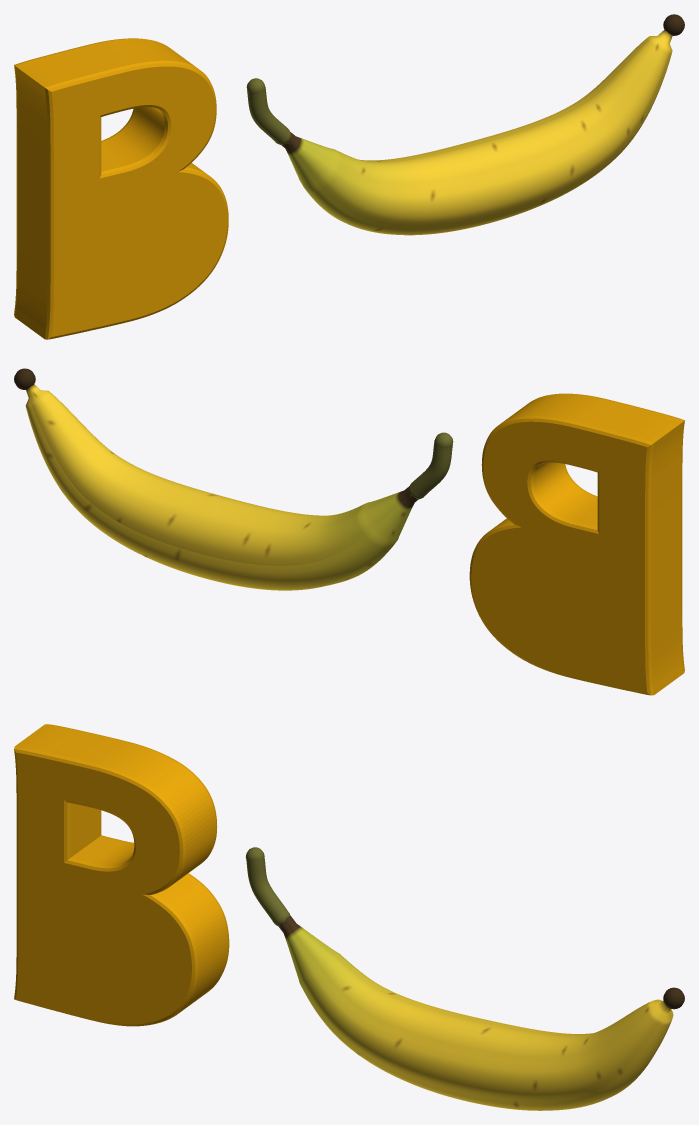
The model's file is banana-ar.glb.
3 renders of one model, top to bottom at view 1: azimuth 30°, elevation 25°; view 2: azimuth 150°, elevation 25°; view 3: azimuth 330°, elevation 25°, orthographic.
Visible parts, largest first — view 1: Letter B, Banana; view 2: Letter B, Banana; view 3: Letter B, Banana.
Part boxes in pixels (bbox=[...]): Letter B: bbox=[14, 38, 228, 339]; Banana: bbox=[246, 14, 684, 235]; Letter B: bbox=[469, 393, 684, 695]; Banana: bbox=[14, 368, 453, 590]; Letter B: bbox=[14, 724, 229, 1026]; Banana: bbox=[245, 847, 684, 1110].
Size of the model in its own units: 0.5546 by 0.2078 by 0.0604.
